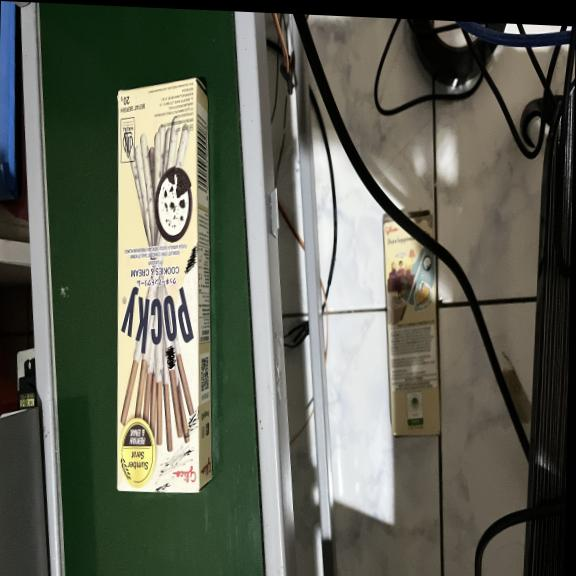Kertas: (106, 74, 207, 494)
